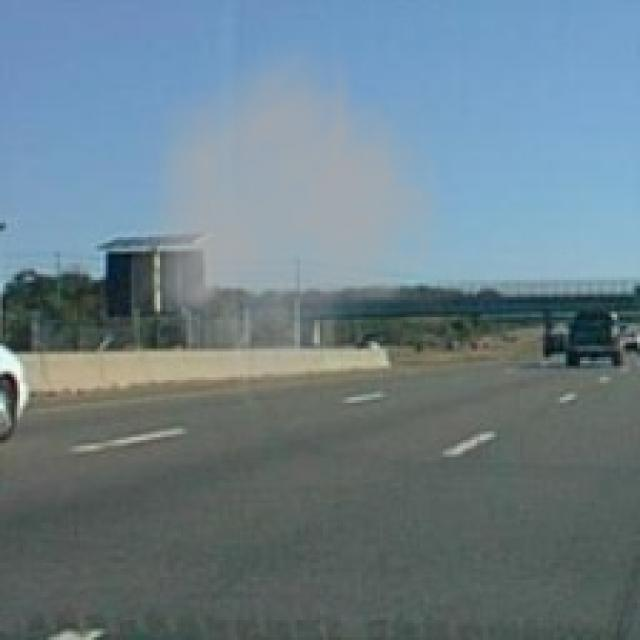smoke: (132, 28, 477, 403)
